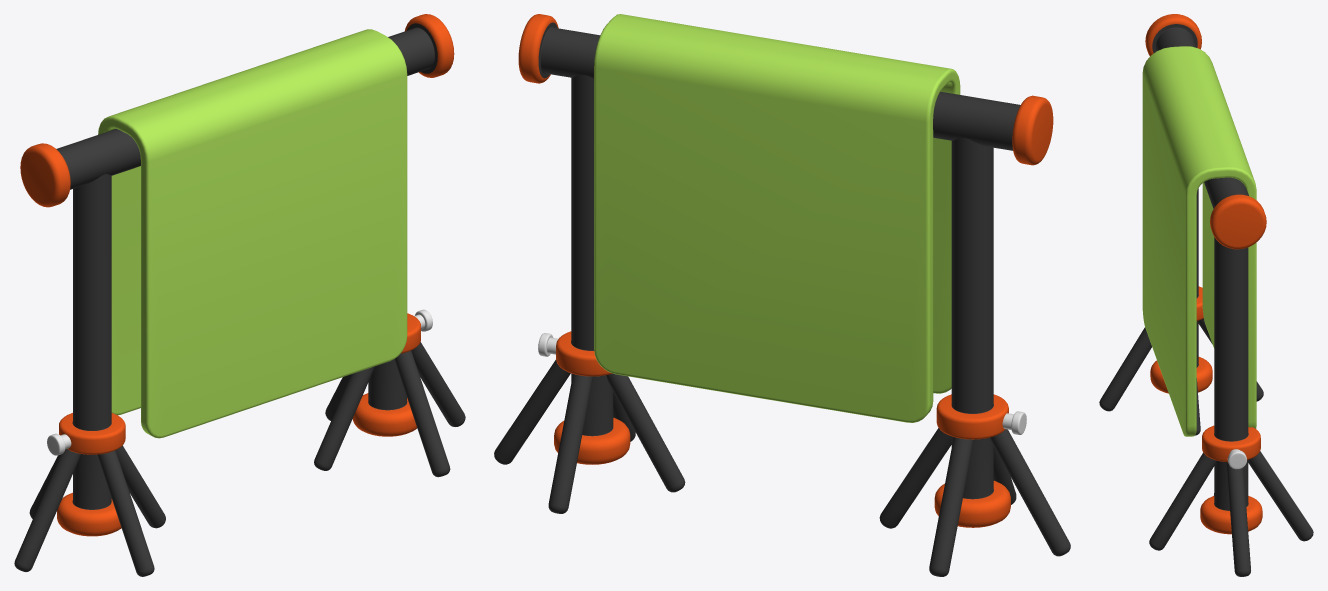
File: green-screend.glb
The picture shows the model from 3 angles, left to right: view 1: azimuth 30°, elevation 25°; view 2: azimuth 150°, elevation 25°; view 3: azimuth 270°, elevation 25°; orthographic projection. The views are drawn at different scales.
Visible parts, largest first — view 1: Cube.001, Cylinder.044, Cylinder.056, Cylinder.050, Cylinder.047, Cylinder.054, Cylinder.046, Cylinder.051, Cylinder.052, Cylinder.045; view 2: Cube.001, Cylinder.044, Cylinder.050, Cylinder.056, Cylinder.048, Cylinder.053, Cylinder.046, Cylinder.051, Cylinder.052, Cylinder.045; view 3: Cube.001, Cylinder.050, Cylinder.056, Cylinder.052, Cylinder.054, Cylinder.053, Cylinder.044, Cylinder.047, Cylinder.055.
Part boxes in pixels (x1,y1,x2,y2): Cube.001: (98,29,407,438); Cylinder.044: (57,174,125,536); Cylinder.056: (20,14,454,207); Cylinder.050: (352,313,420,436); Cylinder.047: (97,450,154,576); Cylinder.054: (394,350,450,477); Cylinder.046: (14,449,81,571); Cylinder.051: (314,366,374,470); Cylinder.052: (411,342,465,426); Cylinder.045: (115,445,165,528); Cube.001: (594,14,960,422); Cylinder.044: (934,138,1010,527); Cylinder.050: (554,75,630,464); Cylinder.056: (518,14,1053,165); Cylinder.048: (929,437,973,576); Cylinder.053: (548,374,593,513); Cylinder.046: (989,429,1070,556); Cylinder.051: (606,373,685,492); Cylinder.052: (494,360,570,464); Cylinder.045: (879,428,951,528); Cube.001: (1142,46,1256,436); Cylinder.050: (1200,237,1262,534); Cylinder.056: (1145,14,1266,249); Cylinder.052: (1226,462,1250,576); Cylinder.054: (1149,452,1216,550); Cylinder.053: (1248,451,1313,541); Cylinder.044: (1150,188,1212,393); Cylinder.047: (1099,327,1151,411); Cylinder.055: (1227,449,1246,469).
Size of the model in its own units: 6.43 by 5.29 by 2.76.
